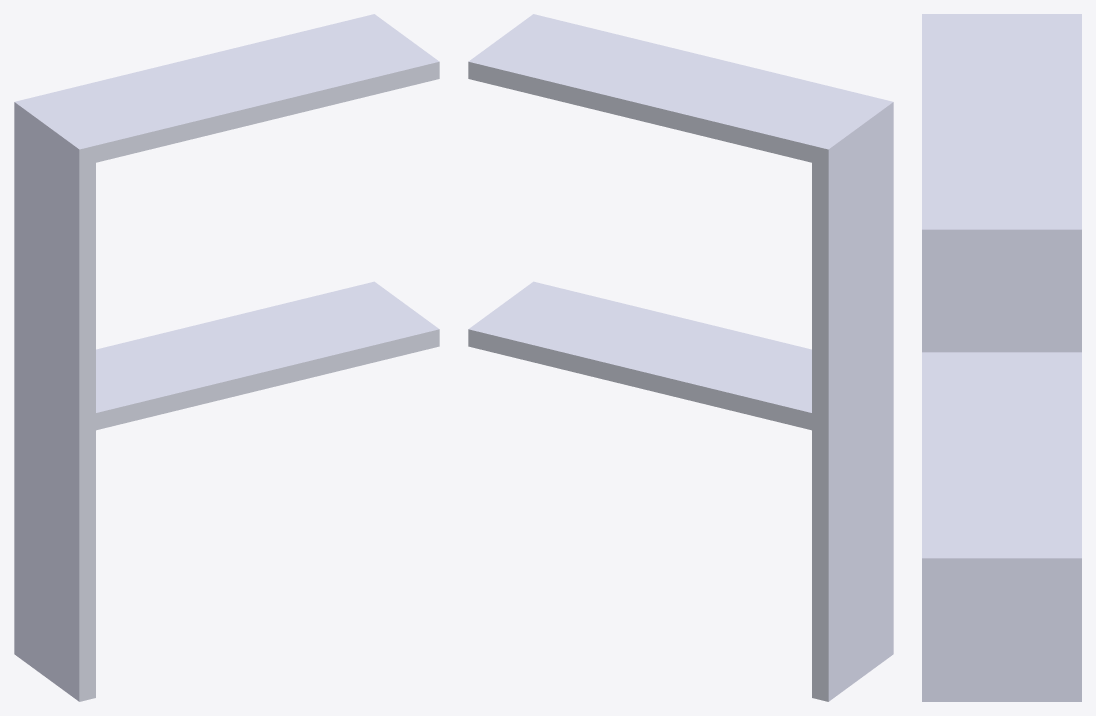
3 renders of one model, left to right at view 1: azimuth 30°, elevation 25°; view 2: azimuth 150°, elevation 25°; view 3: azimuth 270°, elevation 25°, orthographic. The views are drawn at different scales.
Visible parts, largest first — view 1: f_AlphaProta_Grey; view 2: f_AlphaProta_Grey; view 3: f_AlphaProta_Grey.
Boxes of the visible parts, <box> form: f_AlphaProta_Grey: <box>14,14,439,701</box>; f_AlphaProta_Grey: <box>468,14,893,701</box>; f_AlphaProta_Grey: <box>922,14,1081,701</box>.
Size of what is drawn, in the model's own units: 0.1436 by 0.2105 by 0.045.
Materials: 2 (2 with a texture image).
